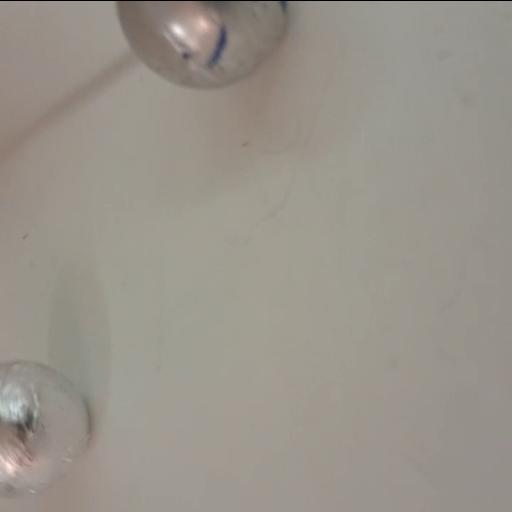alive: (112, 2, 290, 94), (0, 358, 90, 498)
